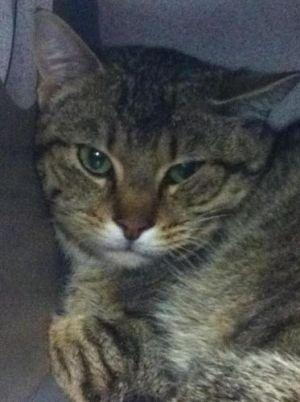bengal: (18, 1, 299, 274)
